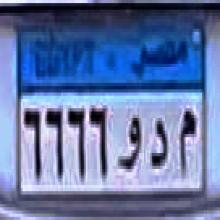6: (88, 104, 108, 178), (66, 107, 86, 180), (44, 108, 64, 176), (25, 107, 40, 184)
daal: (148, 116, 170, 175)
meem: (177, 106, 199, 178)
waw: (117, 110, 141, 172)
